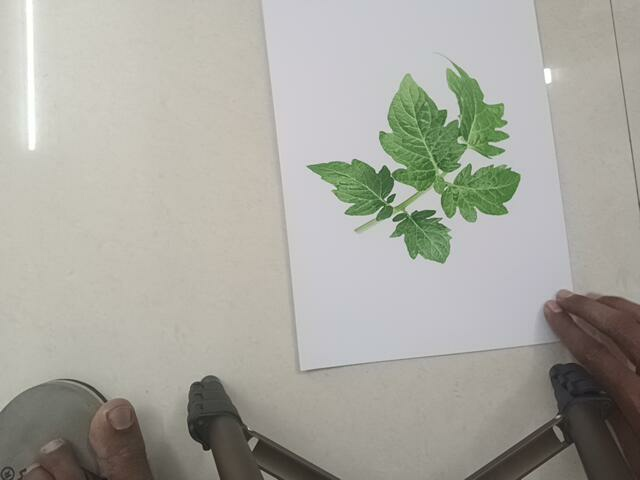Tomamto_Leaf_Healthy: (303, 52, 539, 277)
